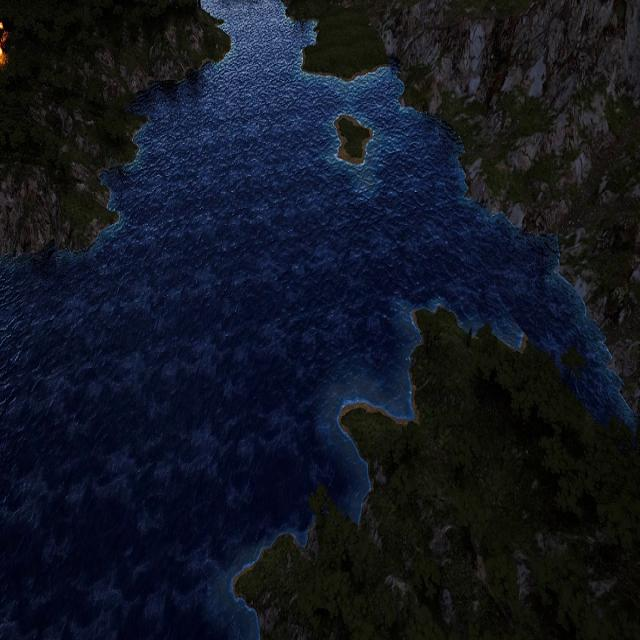fire: (0, 22, 8, 65)
